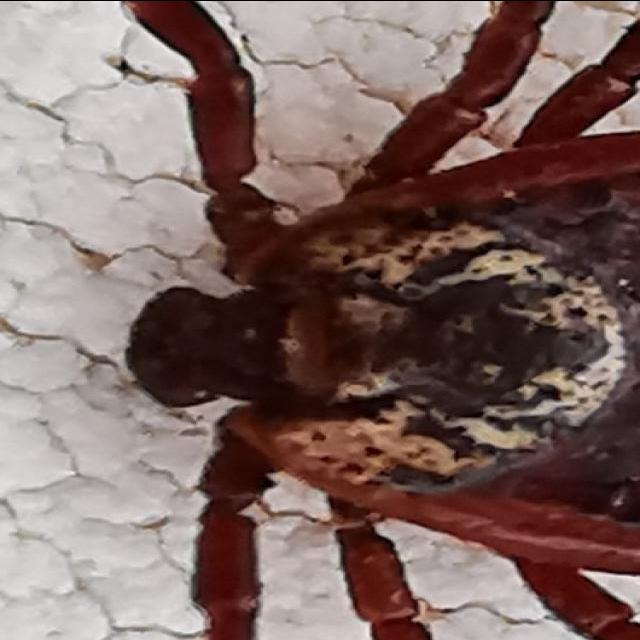Dermacentor Reticulatus-F: (119, 0, 640, 640)
